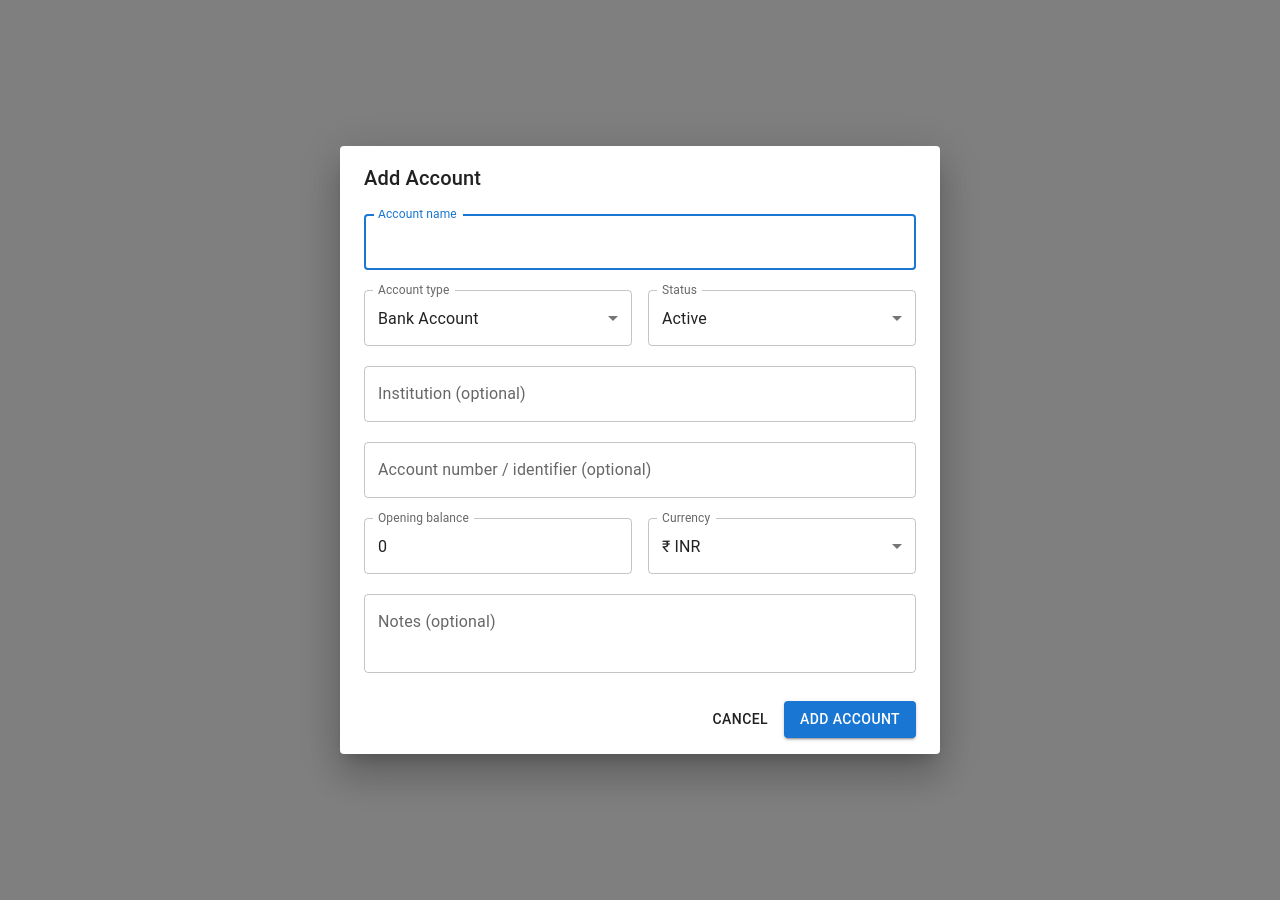
Test: AccountFormDialog › shows the error message returned by a failed submit
This screenshot has width=1280, height=900.
Type "Wallet" into the field labelled "Account name" at (640, 242), box [364,214,916,270]
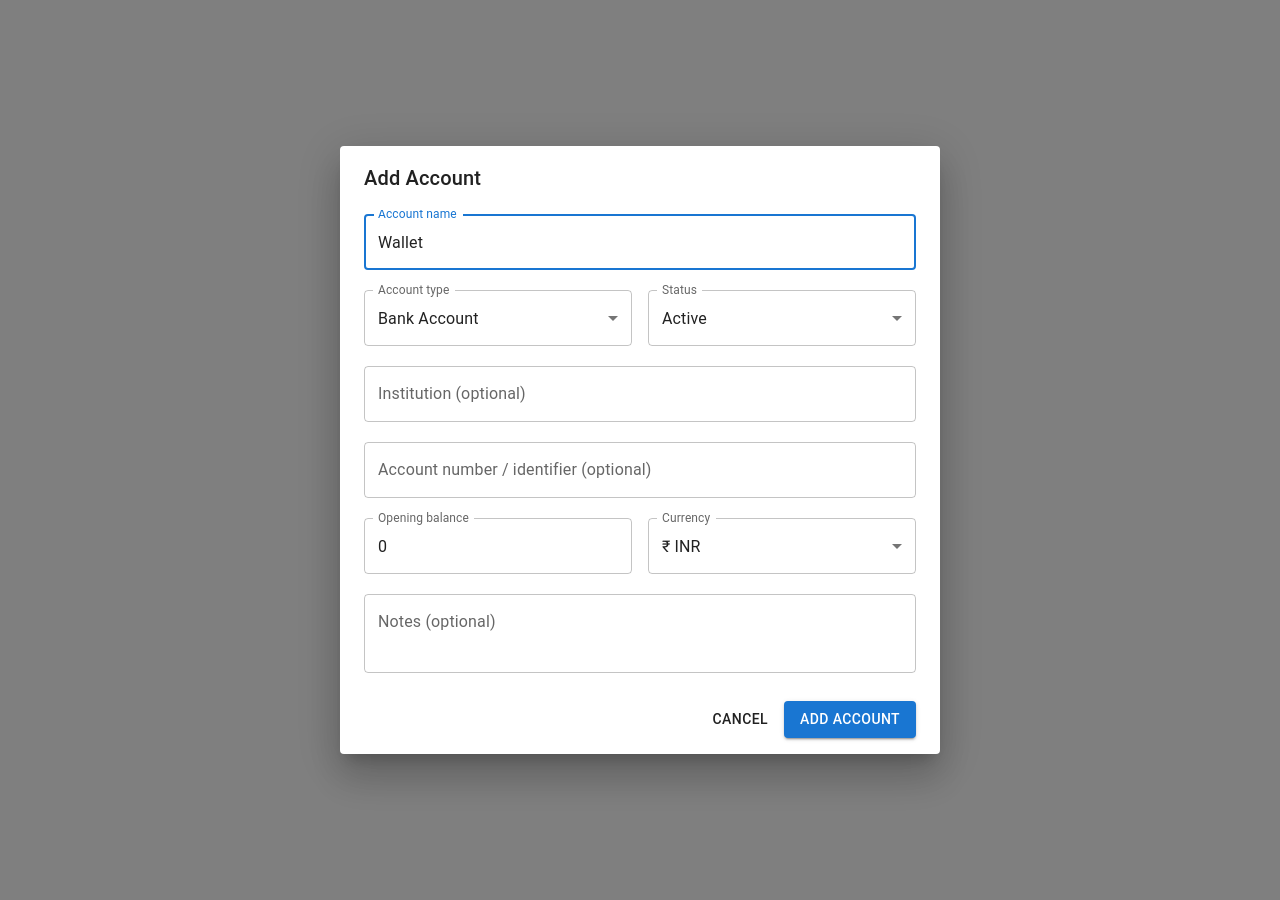
Click the button "Add Account" at (850, 720), box [784,701,916,738]
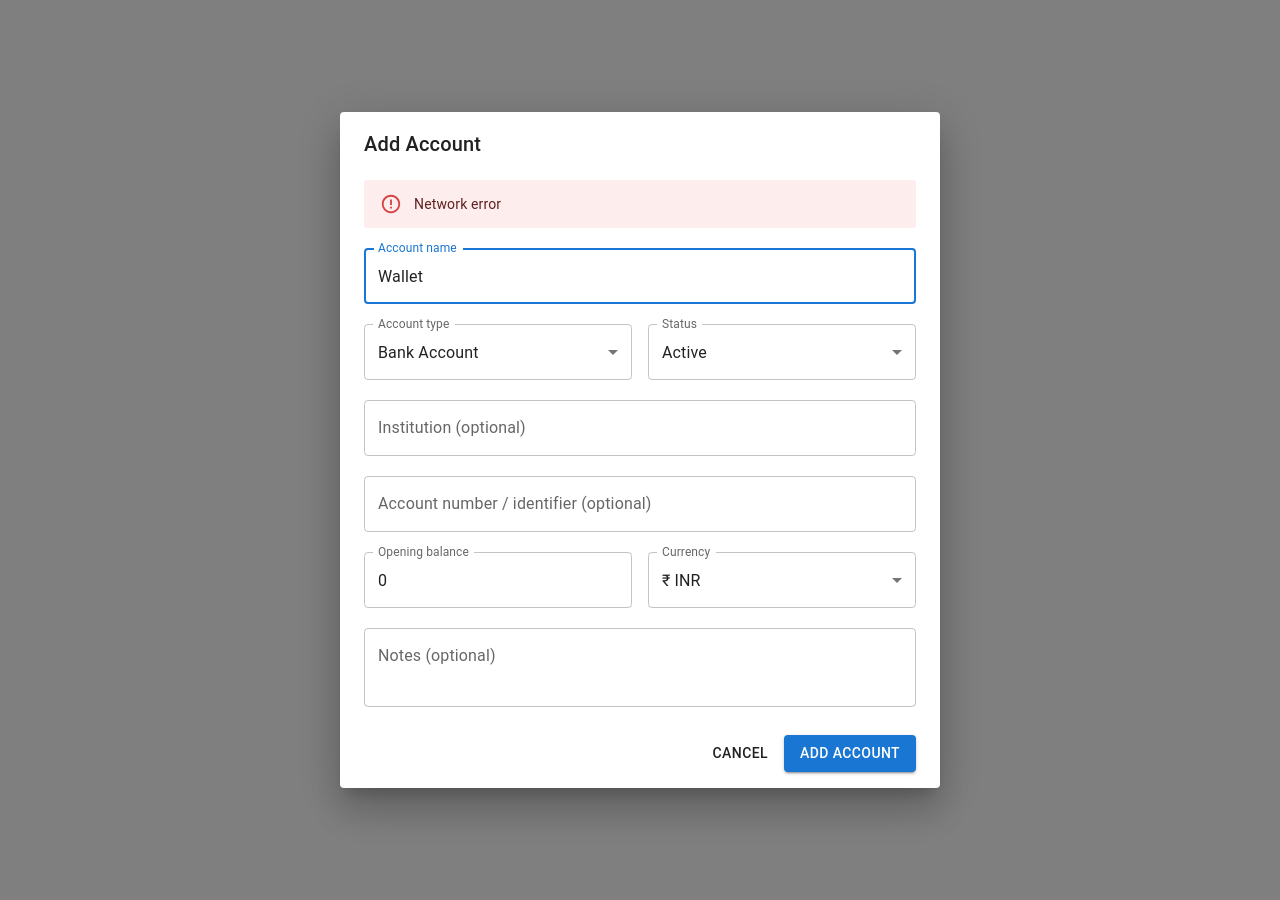
Now the text "Network error" is shown, box [414,196,501,212]
